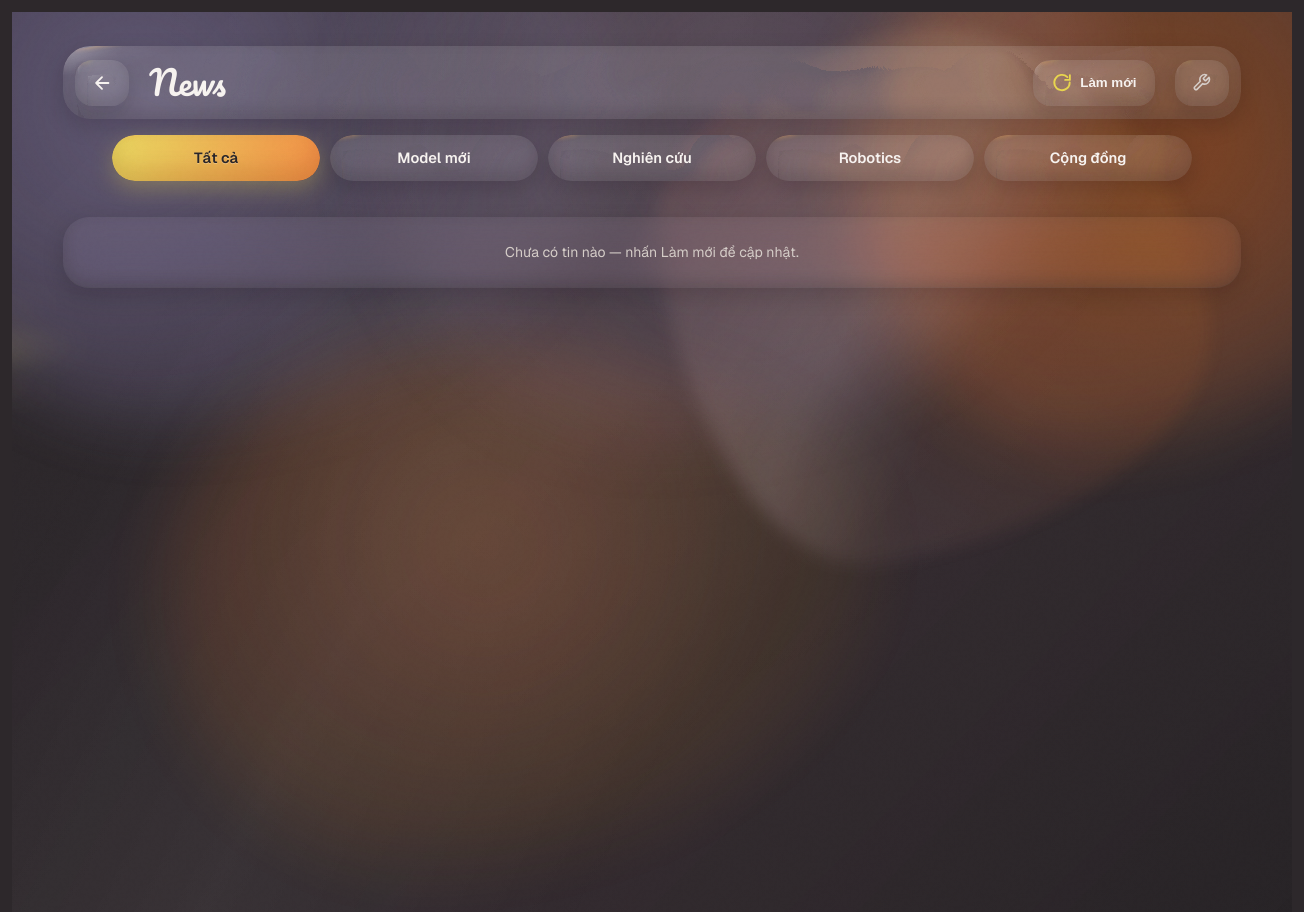
it: NewsPage › keeps the refresh label fixed while loading and announces the busy state
Click the button "Làm mới". click: [1094, 83]
box: [1033,60,1155,106]
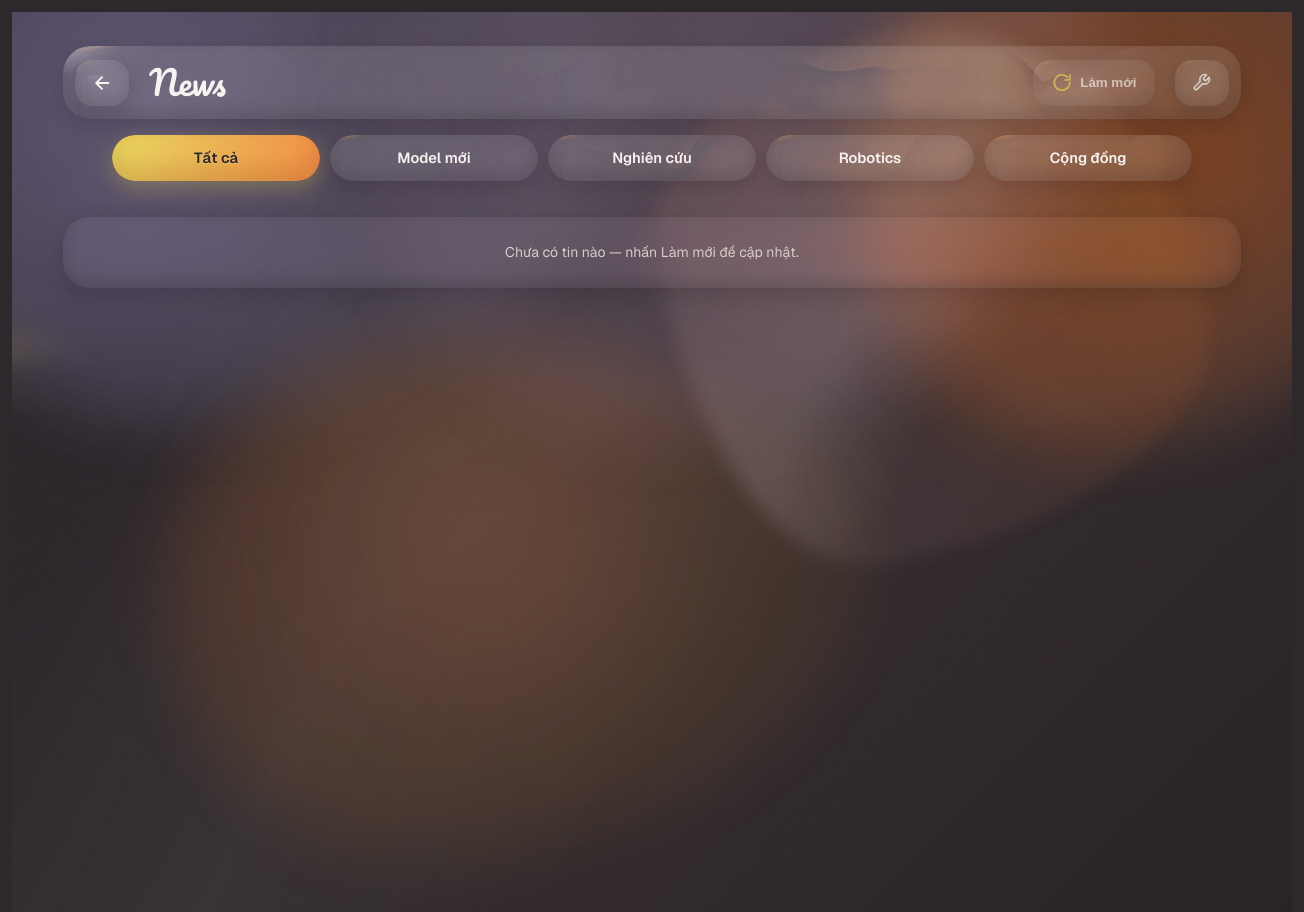
Expected: the text with class "news-refresh-label" reads "Làm mới", [1080,75,1136,90]
Result: the button "Làm mới" is disabled at [1033,60,1155,106]
